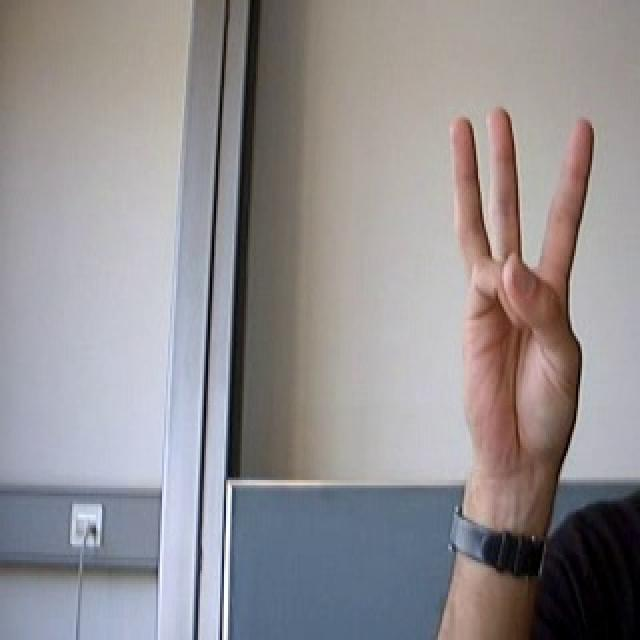W: (432, 97, 615, 473)
